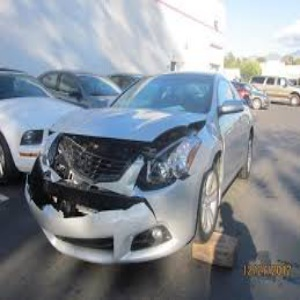bonnet: (50, 64, 153, 121)
bumper: (27, 156, 132, 240)
